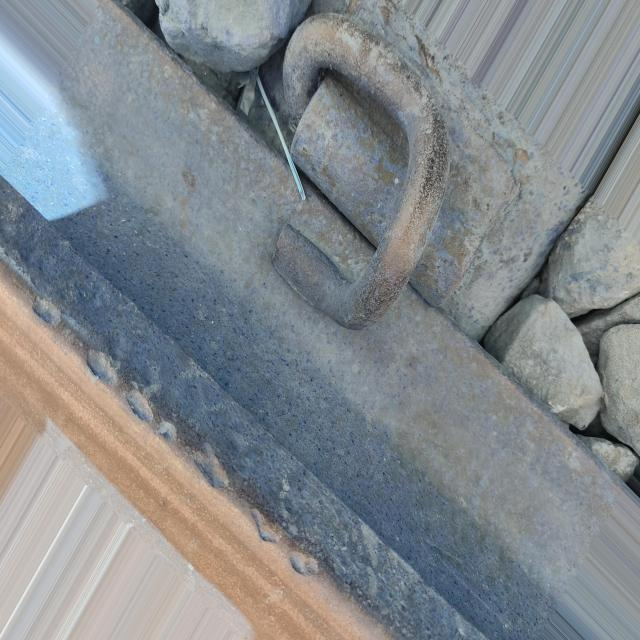Good Fasteners: (251, 1, 523, 365)
